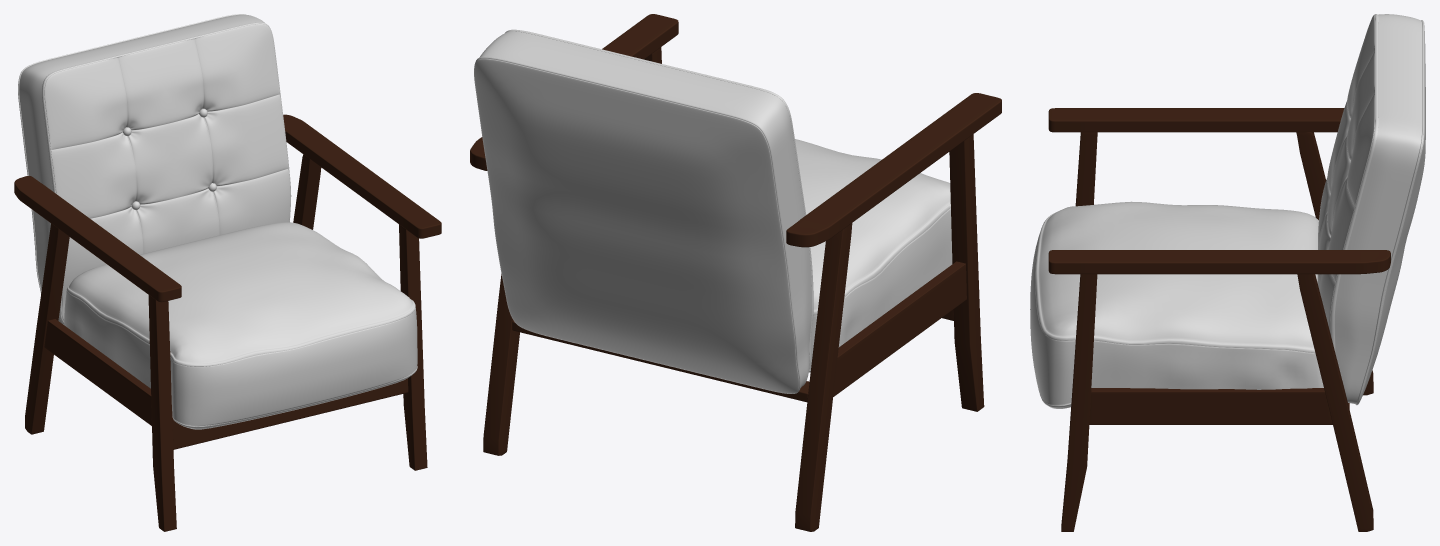
File: Chair_Lecturer_Audit.fbx
The picture shows the model from 3 angles, left to right: view 1: azimuth 30°, elevation 25°; view 2: azimuth 150°, elevation 25°; view 3: azimuth 270°, elevation 25°; orthographic projection. The views are drawn at different scales.
Parts seen in each view (by area): view 1: Fabric, Wood; view 2: Fabric, Wood; view 3: Fabric, Wood.
Boxes of the visible parts, x1,y1,x2,y2 form: Fabric: (18, 14, 417, 429); Wood: (14, 114, 441, 531); Fabric: (474, 29, 952, 393); Wood: (470, 14, 1001, 531); Fabric: (1030, 14, 1425, 408); Wood: (1048, 108, 1390, 531).
Bounding box in the file's own units: 589 × 694 × 636.
